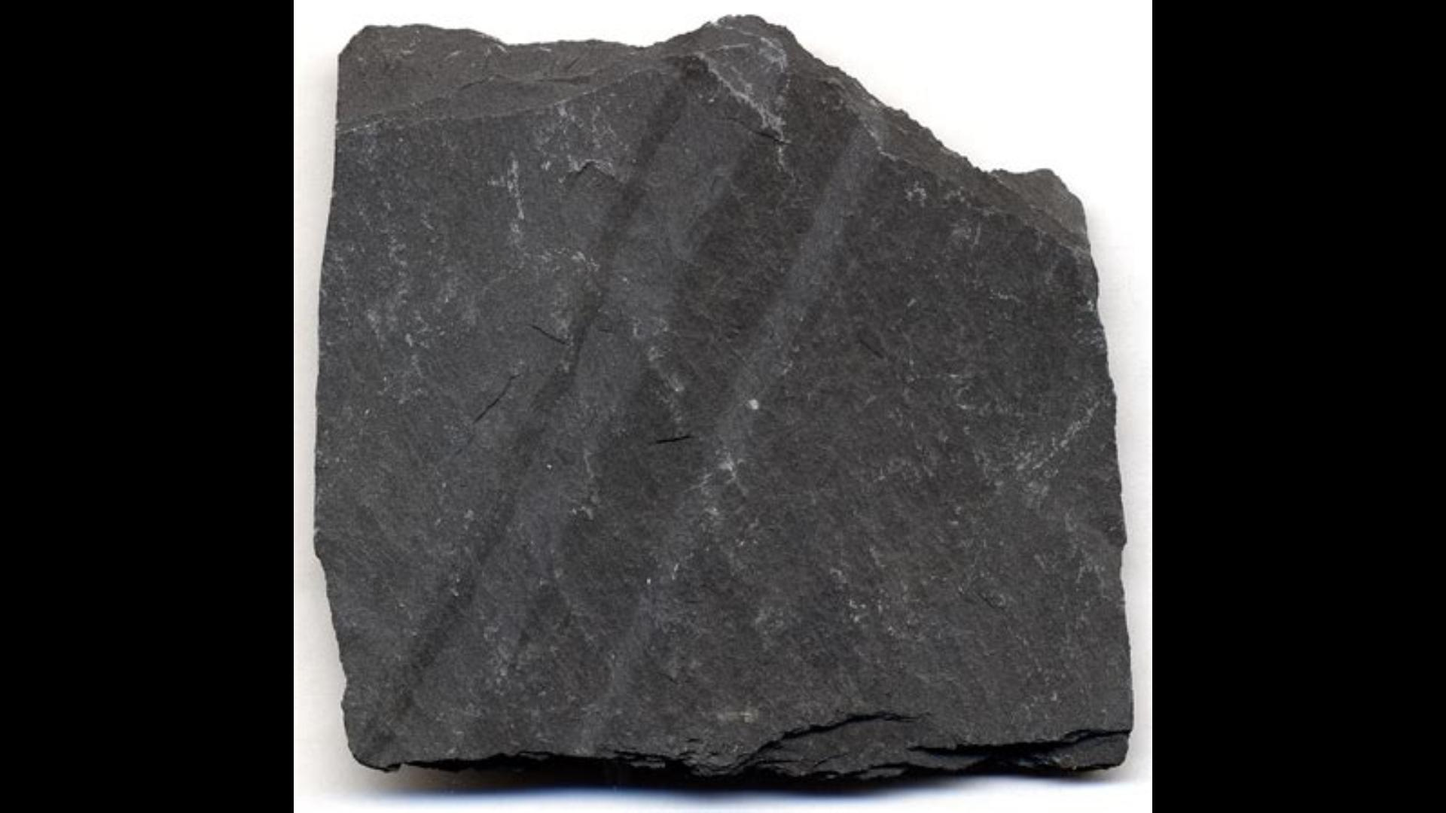rock: (315, 18, 1120, 779)
